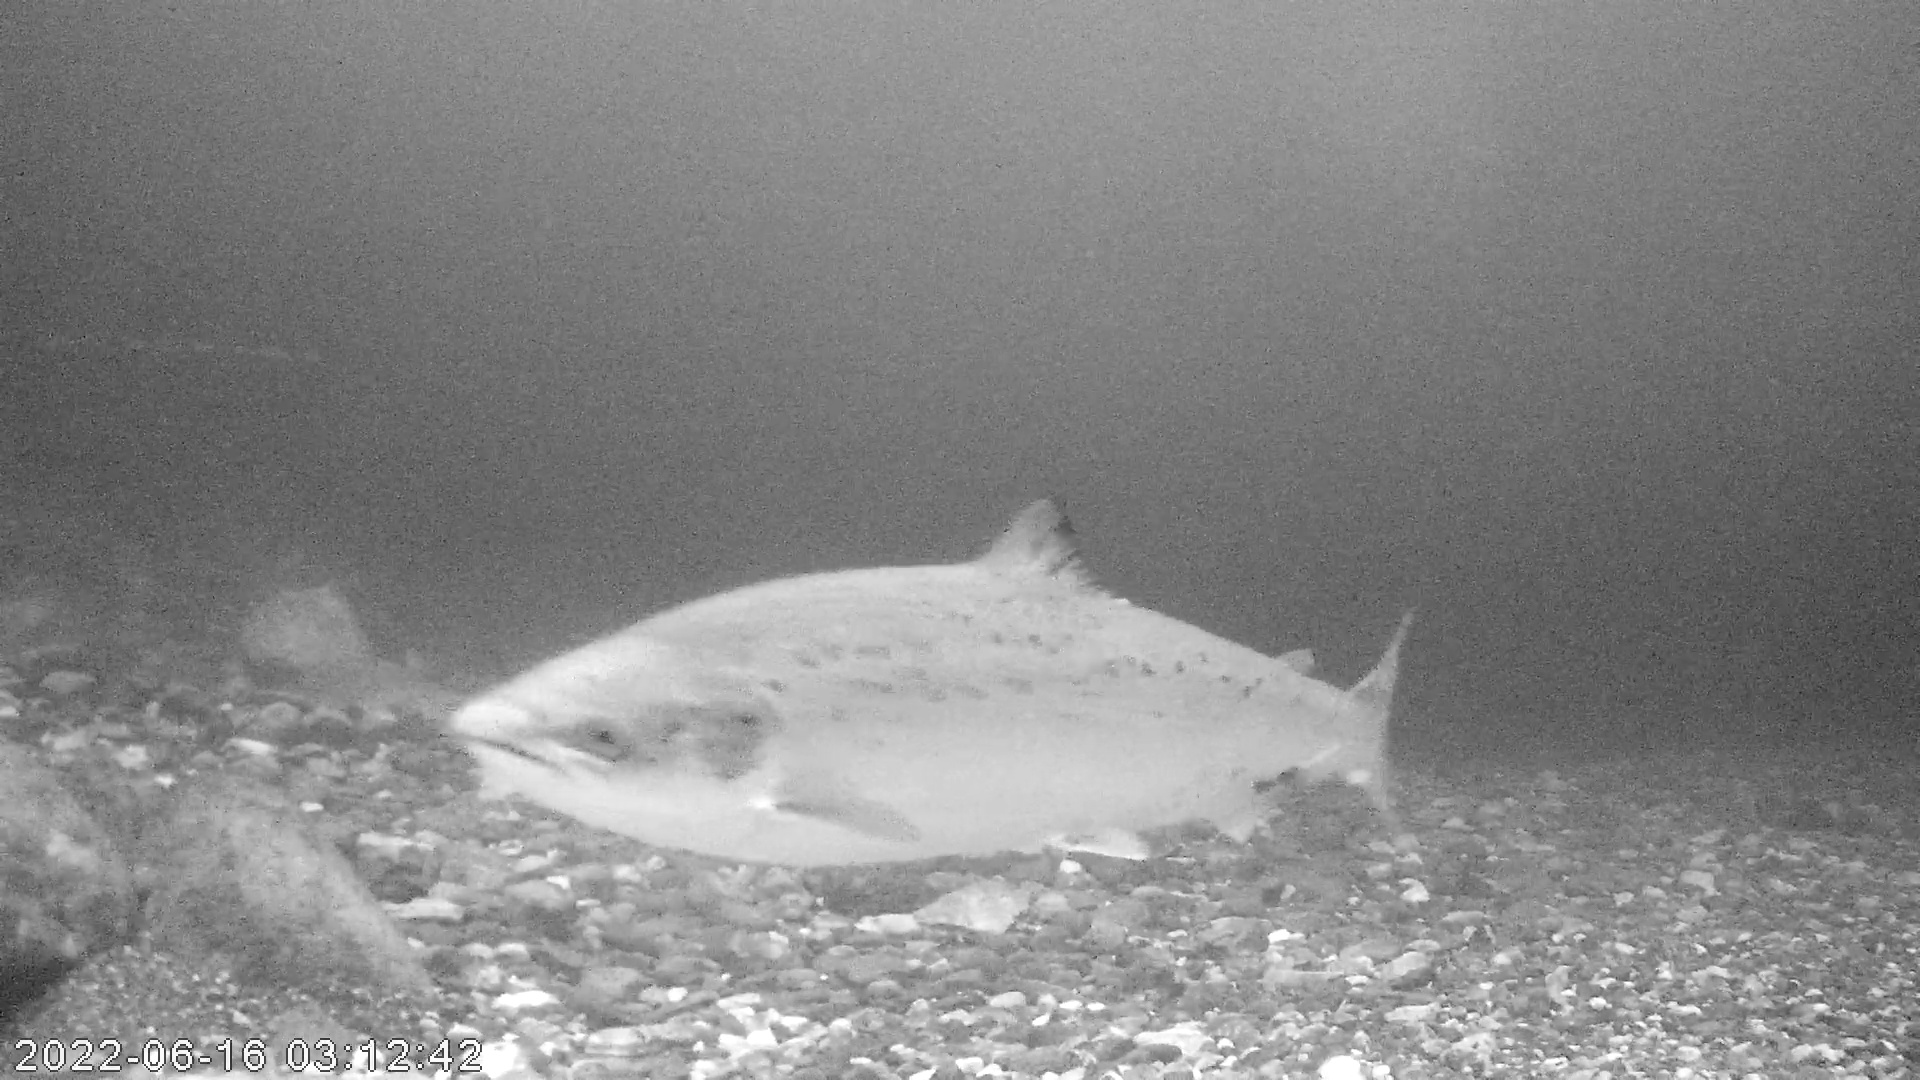salmon: (450, 489, 1420, 869)
